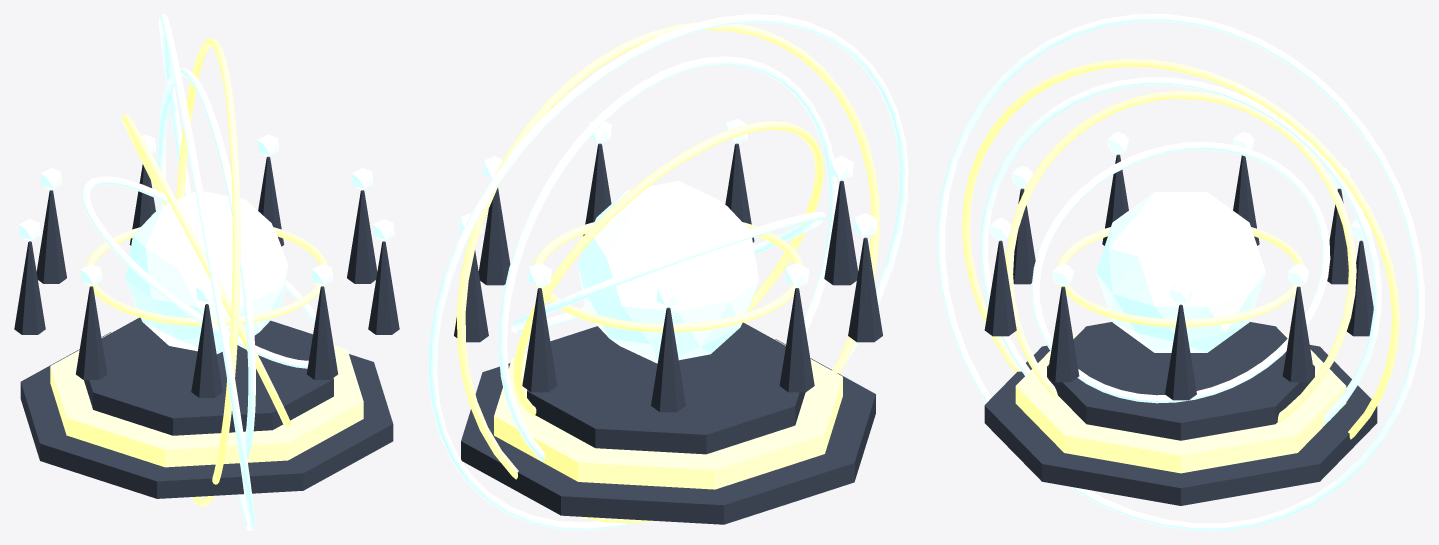
File: gpu-blender-v53.glb
3 renders of one model, left to right at view 1: azimuth 30°, elevation 25°; view 2: azimuth 150°, elevation 25°; view 3: azimuth 270°, elevation 25°, orthographic. The views are drawn at different scales.
Visible parts, largest first — view 1: Cylinder.002, Cylinder, SovereignCore_pod-smart-router, Cylinder.001, Torus.005, Torus.004, Torus.003, Torus.001, Torus.002, Torus, Cone.006, Cone.004 (+7 smaller); view 2: Cylinder.002, SovereignCore_pod-smart-router, Cylinder, Cylinder.001, Torus.005, Torus.004, Torus.003, Torus.002, Torus.001, Torus, Cone.003, Cone.005 (+7 smaller); view 3: SovereignCore_pod-smart-router, Cylinder.002, Cylinder, Cylinder.001, Torus.005, Torus.004, Torus.003, Torus.002, Torus.001, Torus, Cone, Cone.001 (+7 smaller).
Part boxes in pixels (x1,y1,x2,y2): Cylinder.002: (84, 317, 333, 435); Cylinder: (20, 332, 393, 498); SovereignCore_pod-smart-router: (125, 191, 288, 353); Cylinder.001: (50, 324, 363, 467); Torus.005: (159, 14, 254, 530); Torus.004: (176, 38, 240, 506); Torus.003: (158, 68, 255, 459); Torus.001: (82, 176, 316, 368); Torus.002: (122, 114, 290, 426); Torus: (85, 227, 327, 326); Cone.006: (191, 304, 222, 397); Cone.004: (14, 241, 45, 334); Cylinder.002: (527, 322, 805, 454); SovereignCore_pod-smart-router: (578, 181, 758, 363); Cylinder: (461, 339, 875, 524); Cylinder.001: (494, 330, 842, 489); Torus.005: (428, 14, 908, 530); Torus.004: (457, 22, 879, 523); Torus.003: (498, 56, 838, 461); Torus.002: (513, 121, 823, 415); Torus.001: (511, 211, 825, 333); Torus: (533, 222, 803, 332); Cone.003: (651, 307, 685, 412); Cone.005: (848, 237, 882, 342); SovereignCore_pod-smart-router: (1096, 192, 1265, 352); Cylinder.002: (1047, 322, 1314, 440); Cylinder: (984, 345, 1377, 505); Cylinder.001: (1015, 334, 1346, 473); Torus.005: (937, 14, 1424, 530); Torus.004: (962, 59, 1399, 439); Torus.003: (980, 77, 1381, 423); Torus.002: (1006, 90, 1356, 423); Torus.001: (1031, 141, 1330, 403); Torus: (1057, 227, 1304, 327); Cone: (1165, 304, 1196, 400); Cone.001: (1282, 286, 1314, 382).
Bounding box in the file's own units: 4.41 × 5.93 × 5.46.
